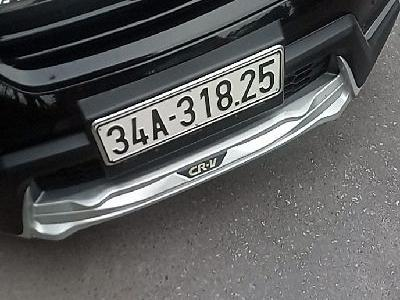number: (95, 47, 285, 167)
